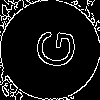G: (25, 25, 77, 71)
